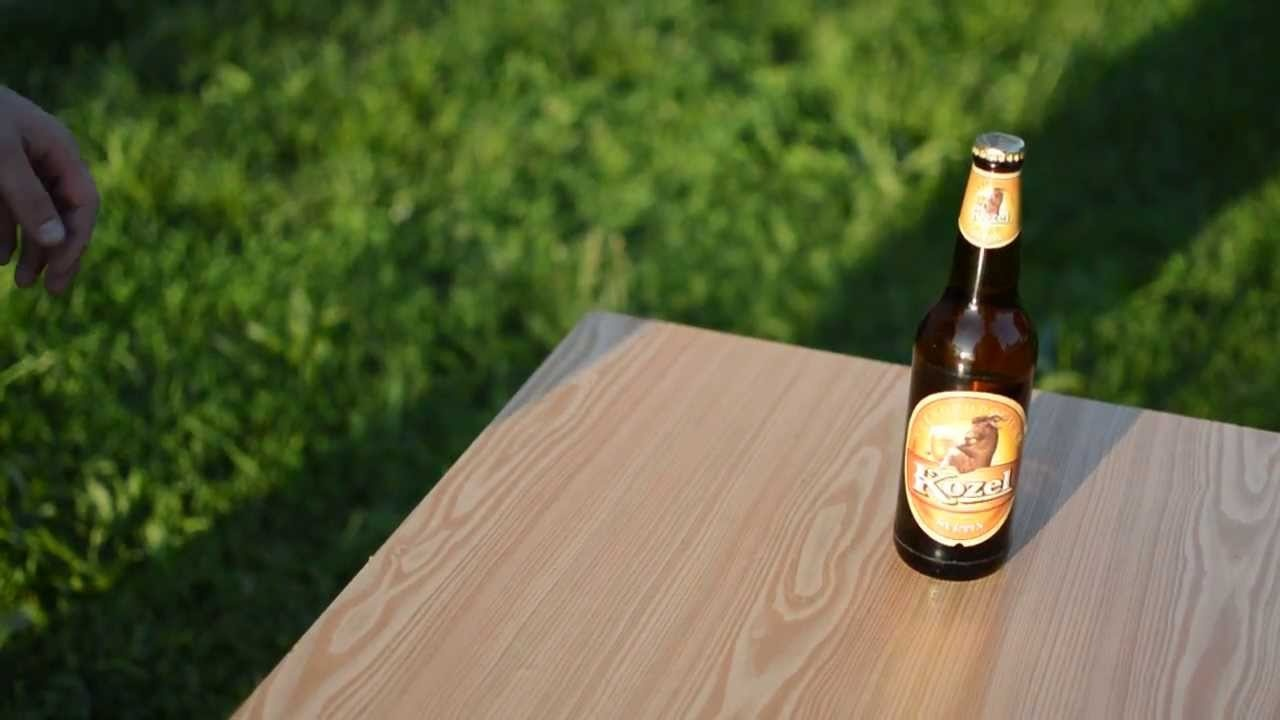beerBottle: (894, 133, 1036, 577)
